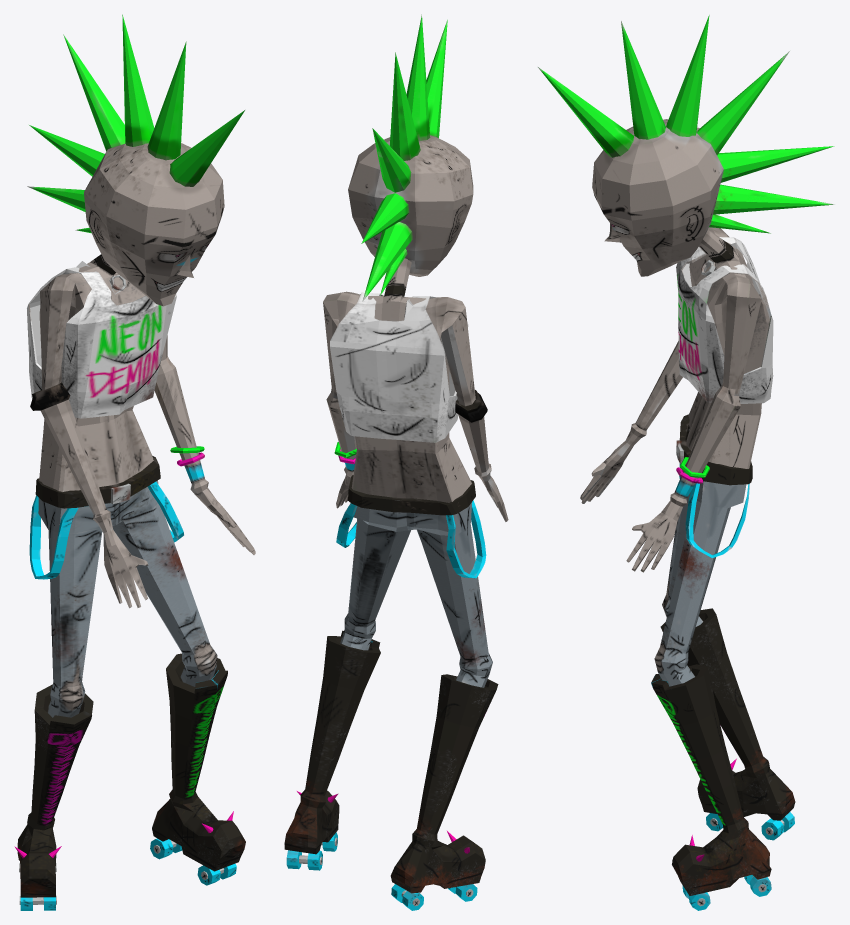
Rendered from punkAnimation_000043.obj.
3 renders of one model, left to right at view 1: azimuth 30°, elevation 25°; view 2: azimuth 150°, elevation 25°; view 3: azimuth 270°, elevation 25°, orthographic. The views are drawn at different scales.
Parts seen in each view (by area): view 1: Cube.004_Cube.003; view 2: Cube.004_Cube.003; view 3: Cube.004_Cube.003.
Part boxes in pixels (x1,y1,x2,y2): Cube.004_Cube.003: (14, 14, 255, 910); Cube.004_Cube.003: (284, 14, 508, 910); Cube.004_Cube.003: (538, 15, 834, 910).
Size of the model in its own units: 1.81 by 7.37 by 2.34.
